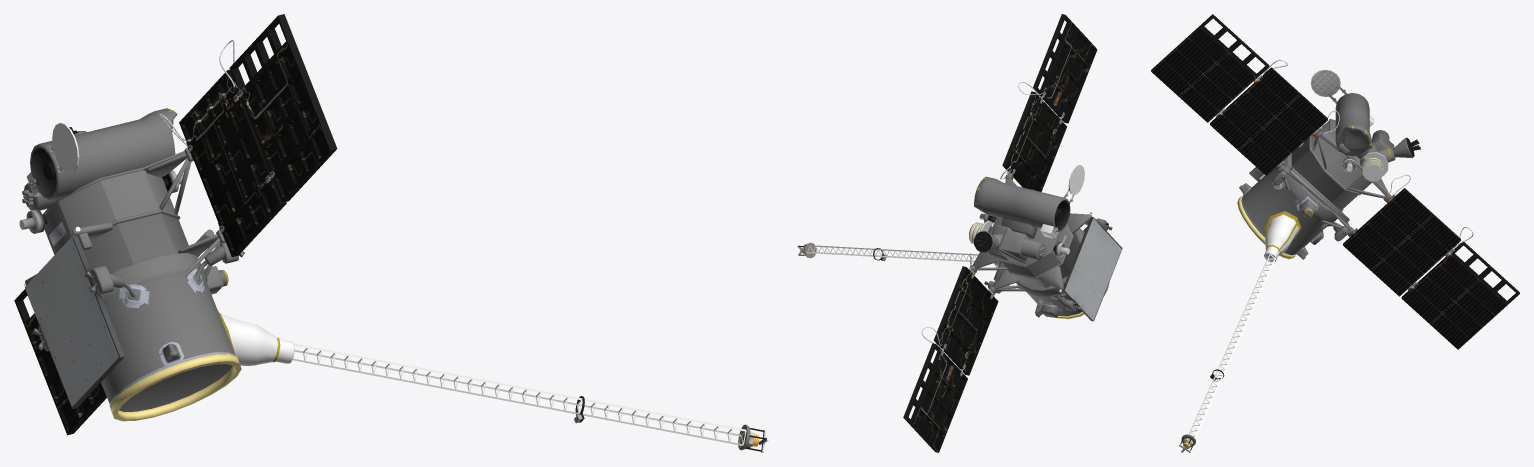
Rendered from dscovr.glb.
The picture shows the model from 3 angles, left to right: view 1: azimuth 30°, elevation 25°; view 2: azimuth 150°, elevation 25°; view 3: azimuth 270°, elevation 25°; orthographic projection. The views are drawn at different scales.
Visible parts, largest first — view 1: BUS, solar_array, antenna, mag_boom, brass_base, silver_tape, epic_lens, epic_interior; view 2: solar_array, BUS, antenna, mag_boom, epic_lens; view 3: solar_array, BUS, mag_boom, epic_lens, faraday_cup, cylinder_thingy, gold_tape.
Part boxes in pixels (left/top/right/bottom): BUS: left=22, top=108, right=294, bottom=411; solar_array: left=14, top=14, right=337, bottom=435; antenna: left=25, top=234, right=124, bottom=408; mag_boom: left=292, top=343, right=746, bottom=445; brass_base: left=109, top=354, right=241, bottom=421; silver_tape: left=49, top=221, right=207, bottom=366; epic_lens: left=48, top=122, right=79, bottom=174; epic_interior: left=31, top=147, right=56, bottom=197; solar_array: left=903, top=14, right=1097, bottom=452; BUS: left=969, top=174, right=1108, bottom=317; antenna: left=1063, top=217, right=1122, bottom=321; mag_boom: left=807, top=245, right=978, bottom=262; epic_lens: left=1063, top=164, right=1084, bottom=203; solar_array: left=1151, top=14, right=1519, bottom=349; BUS: left=1239, top=93, right=1412, bottom=262; mag_boom: left=1188, top=253, right=1275, bottom=438; epic_lens: left=1310, top=69, right=1347, bottom=103; faraday_cup: left=1362, top=152, right=1388, bottom=181; cylinder_thingy: left=1289, top=167, right=1349, bottom=223; gold_tape: left=1264, top=126, right=1393, bottom=255.
Bounding box in the file's own units: 92.79 × 84.92 × 84.92.
Materials: 16 (5 with a texture image).
